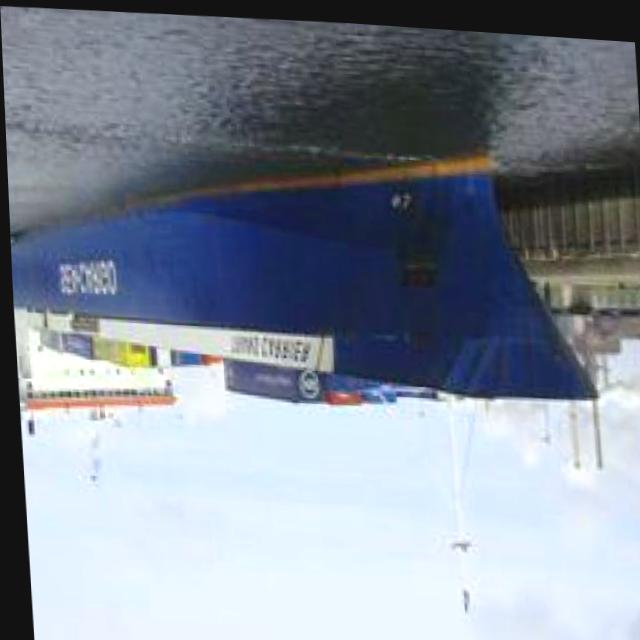ship2: (8, 141, 593, 606)
